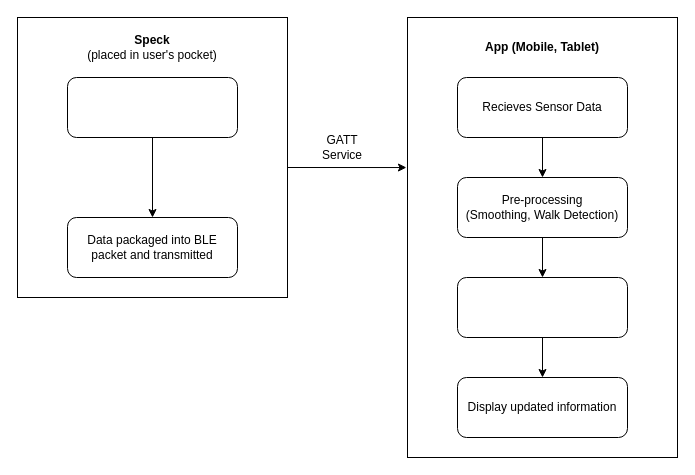
Some shapes in this 695 by 475 pixel diagram are drawn without their labels. Here are the shapes that lost their labels. From the top down, the centre of each, then its label:
At point 152,107: "Board Reads Data From Sensors".
At point 542,307: "Update Step Counting Model".
